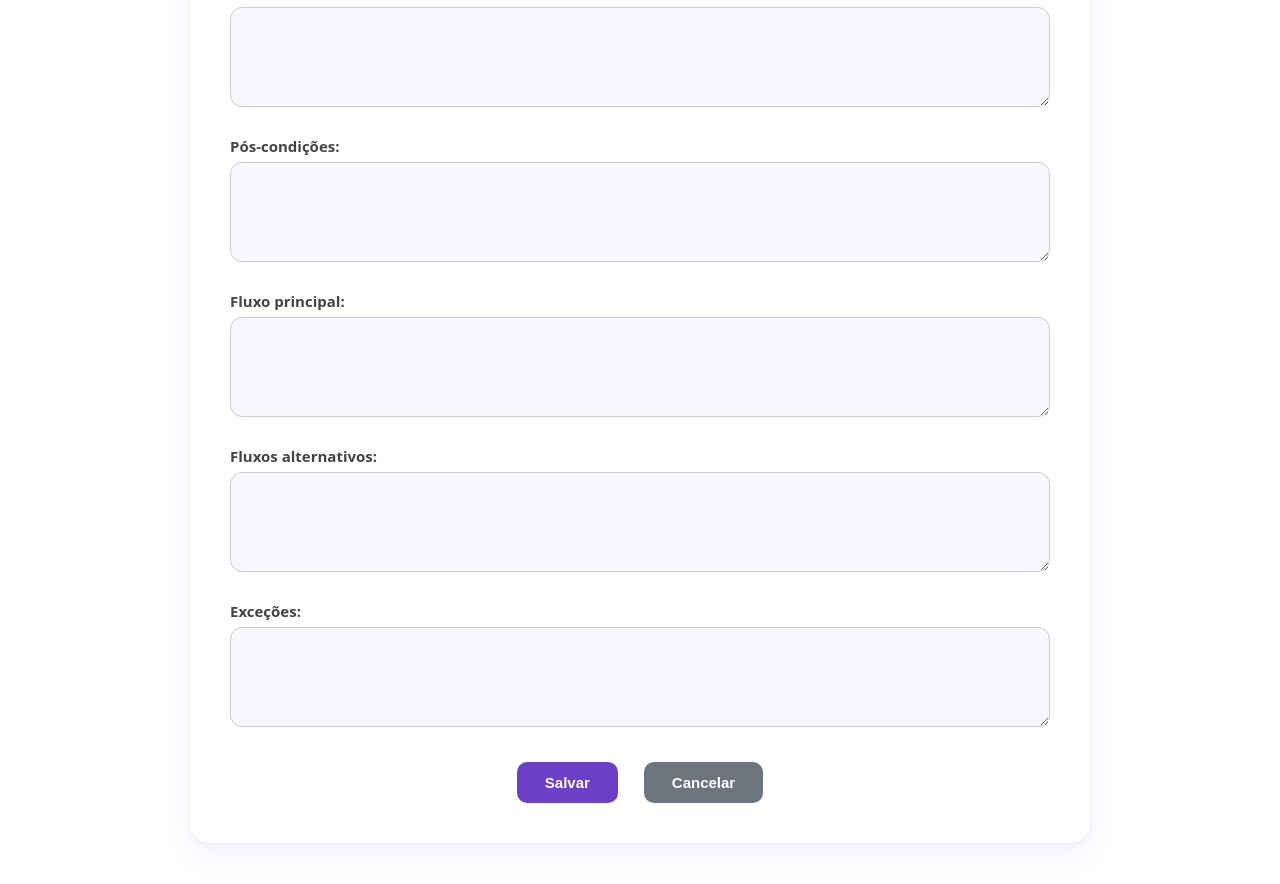
Test case: UseCaseForm › exibe erro se campos obrigatórios estiverem vazios
(page scrolled)
Click the button "Salvar": x=567, y=782 x1=517 y1=762 x2=618 y2=803
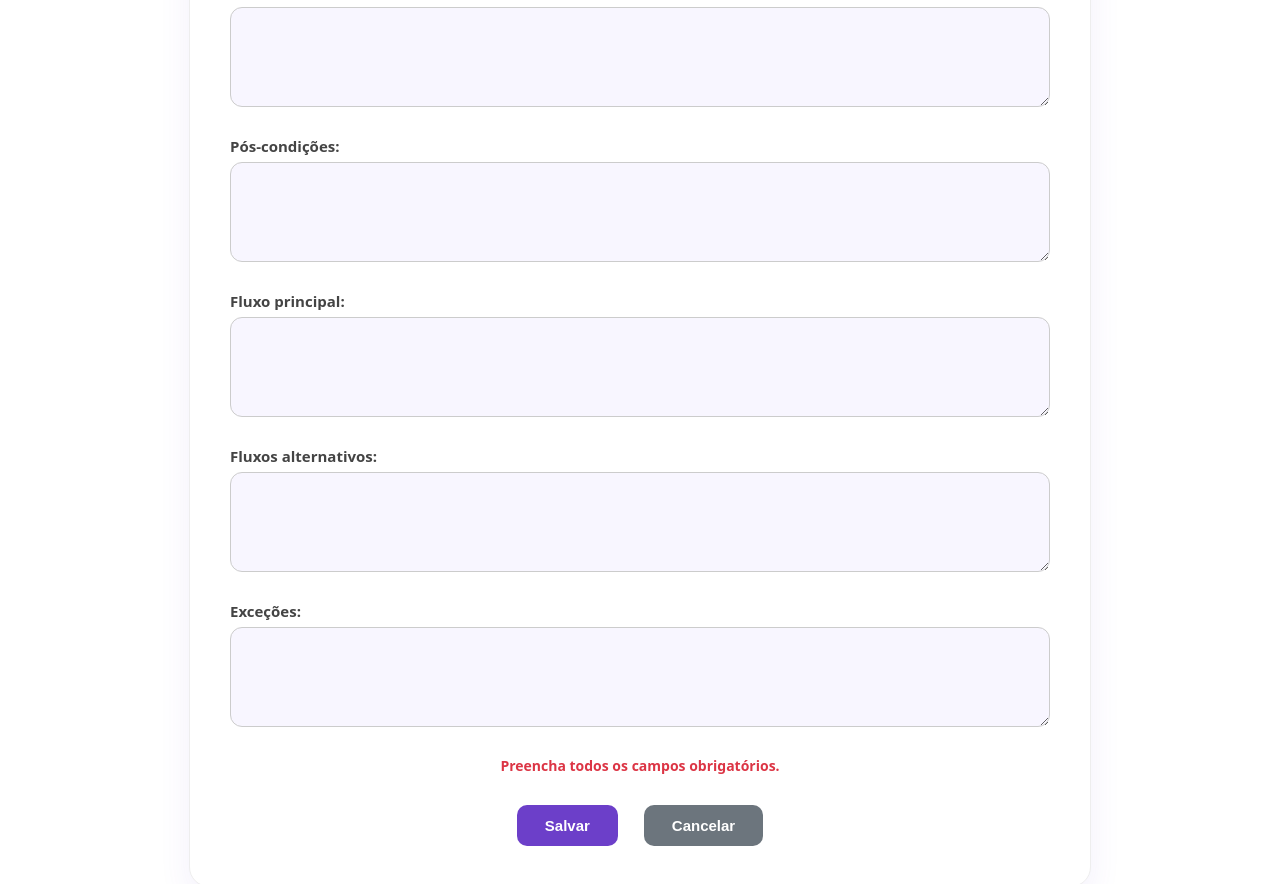
Expected: the text "Preencha todos os campos obrigatórios." is shown, x1=500 y1=756 x2=780 y2=775
